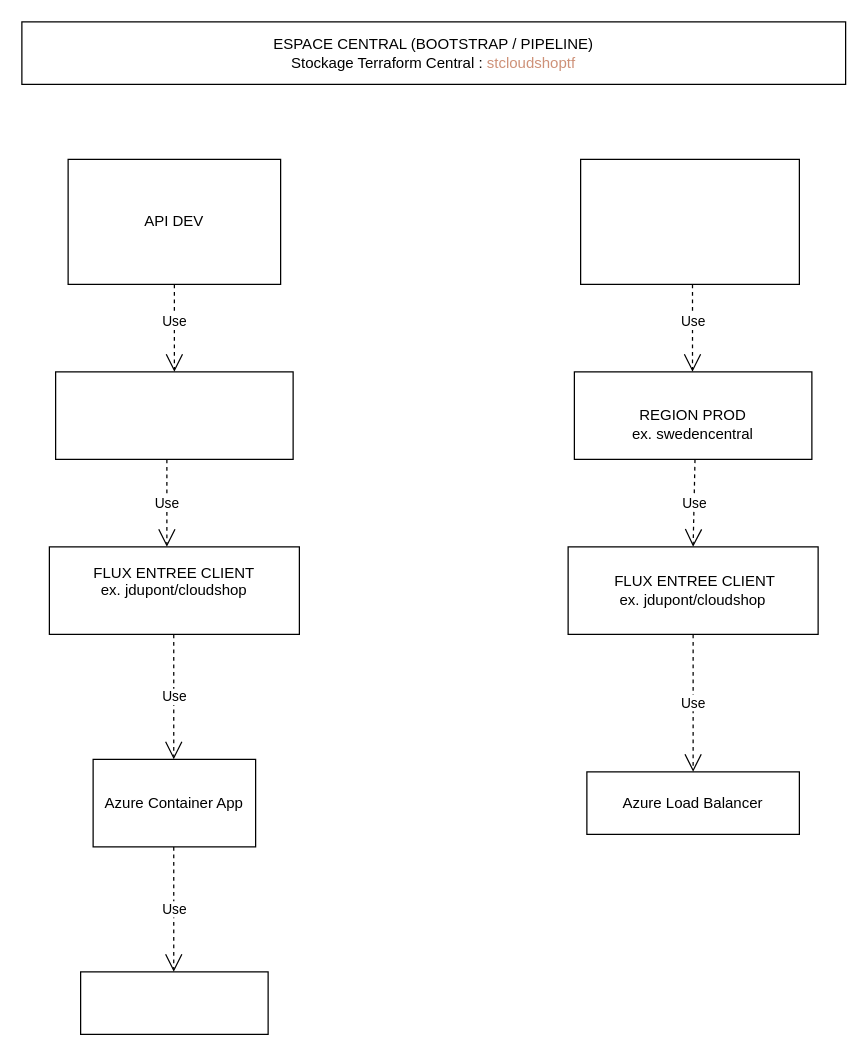
The diagram is 868 pixels wide and 1056 high, and some of its shapes have lost their labels. The centre of each missing label's shape, as x and y in pixels:
API PROD: the point at 689,221
Azure SQL Database: the point at 173,1002
REGION DEV ex. swedencentral: the point at 173,415
